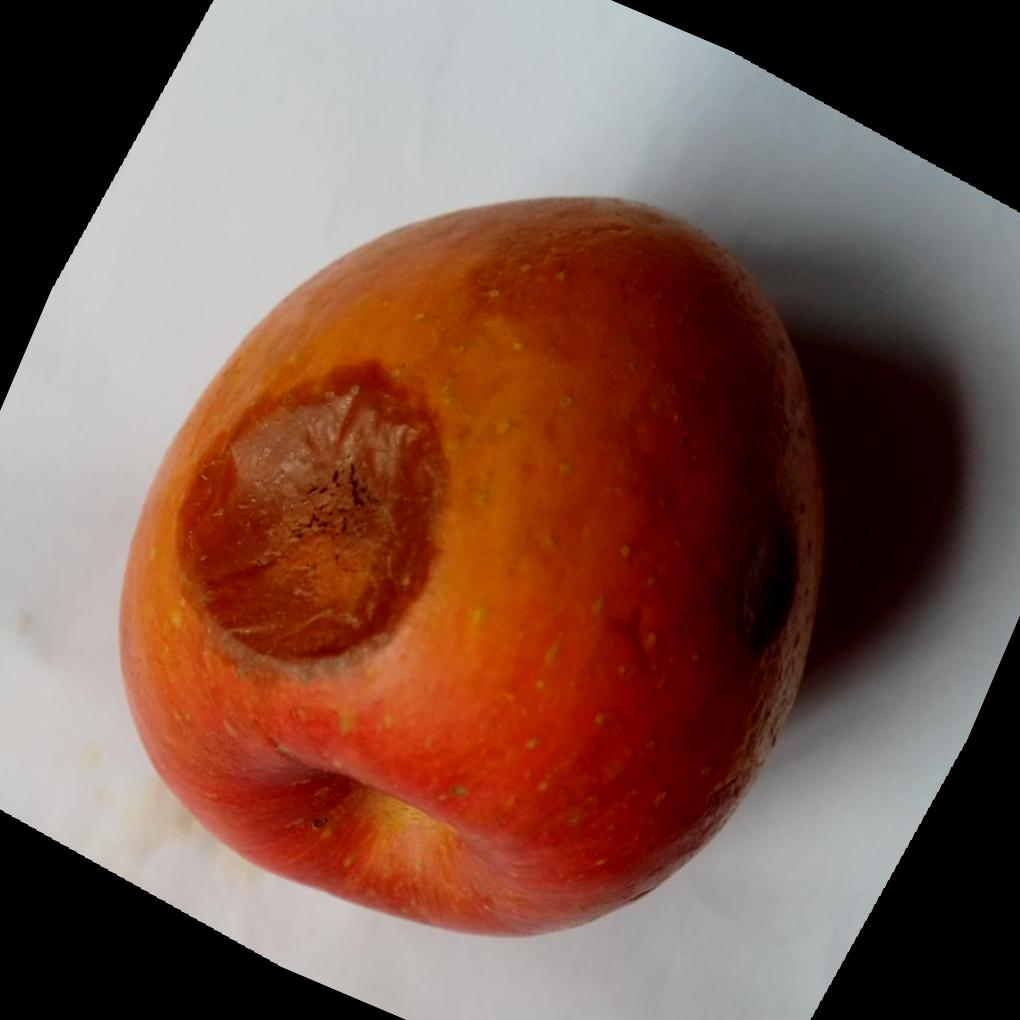FreshOrange: (116, 189, 830, 936)
